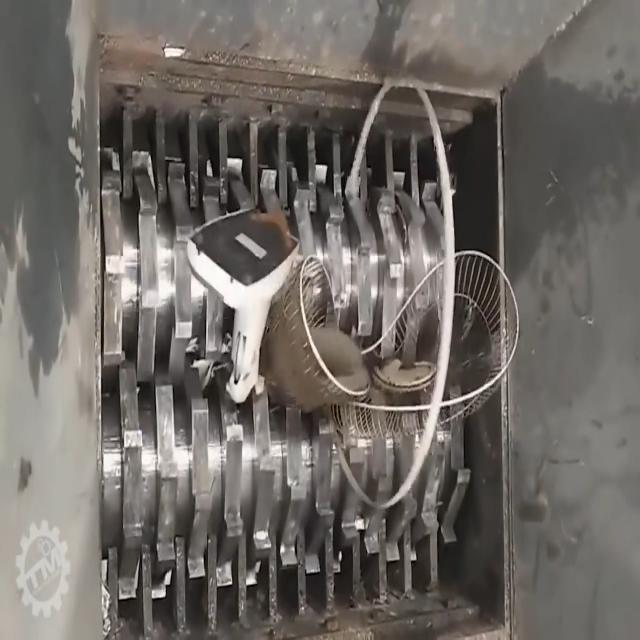Broyeur: (78, 25, 554, 640)
